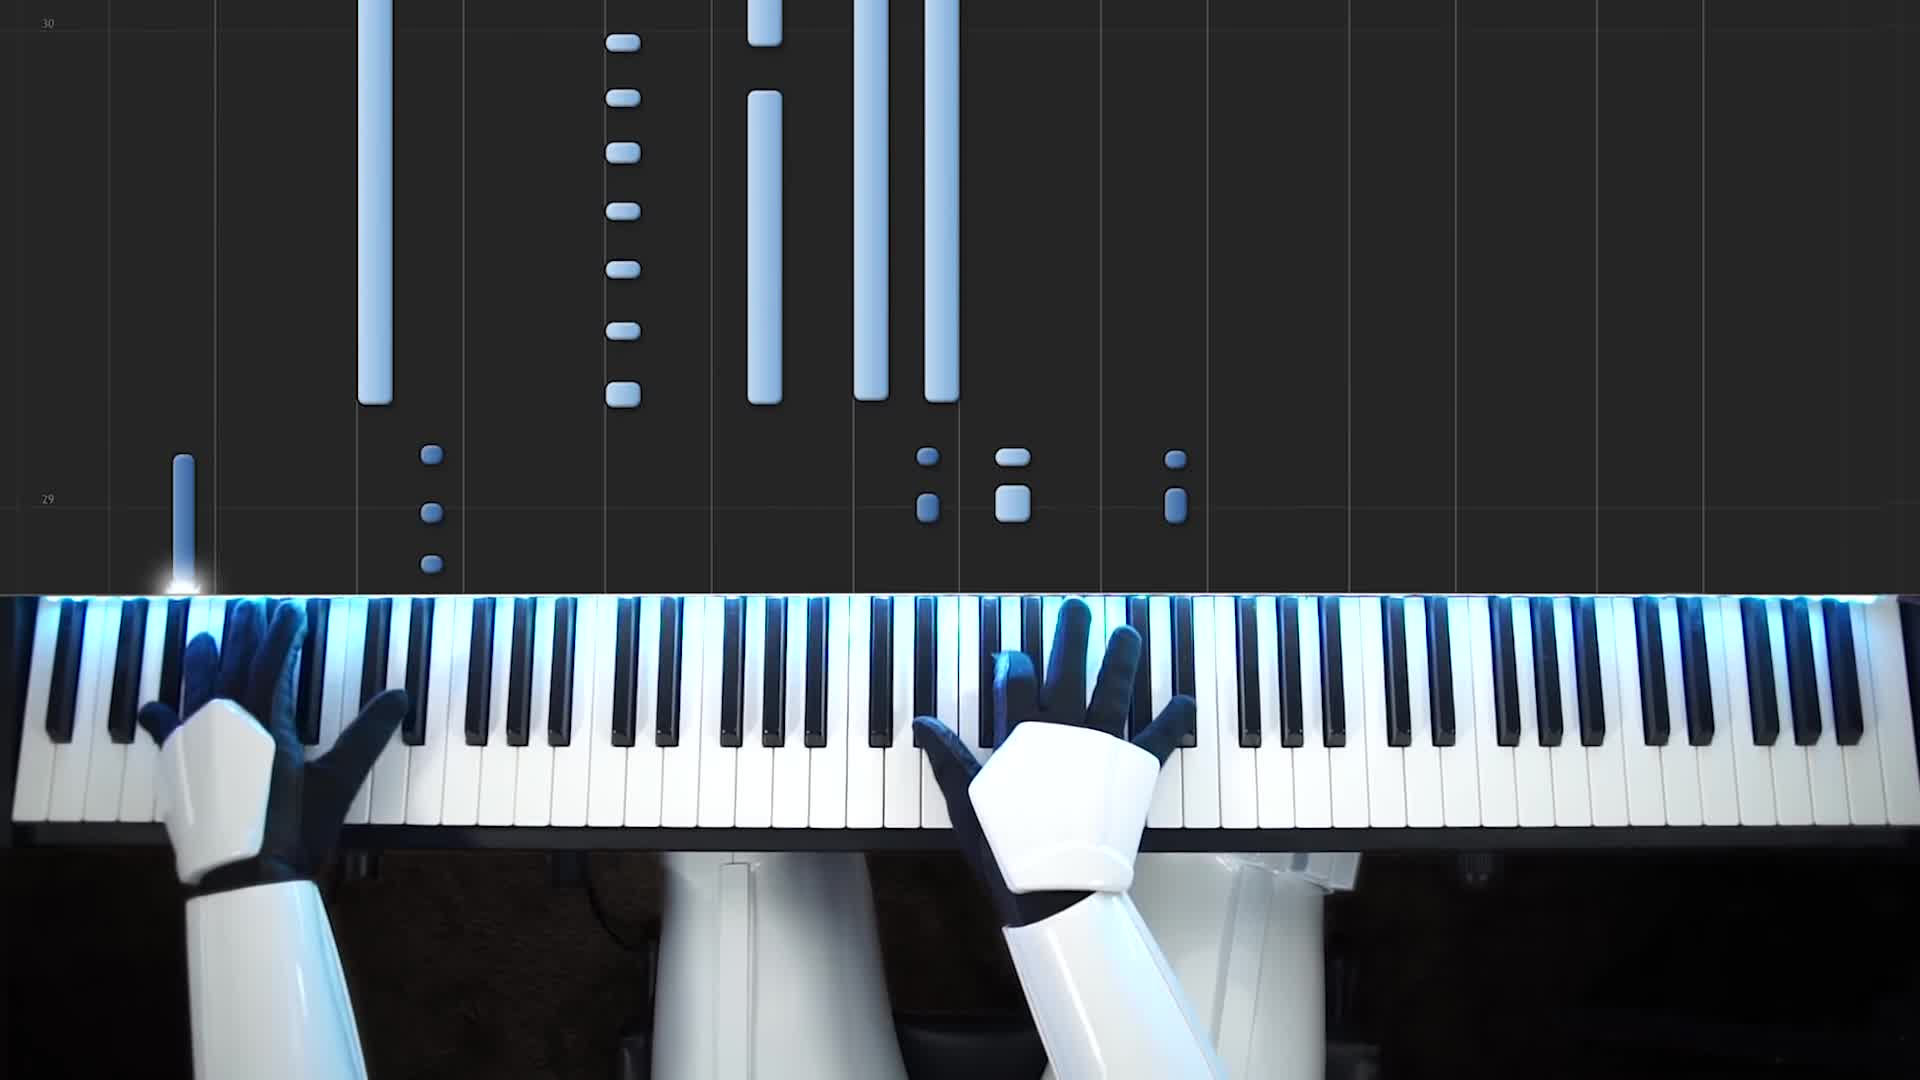left: (136, 601, 407, 884)
right: (913, 601, 1193, 899)
